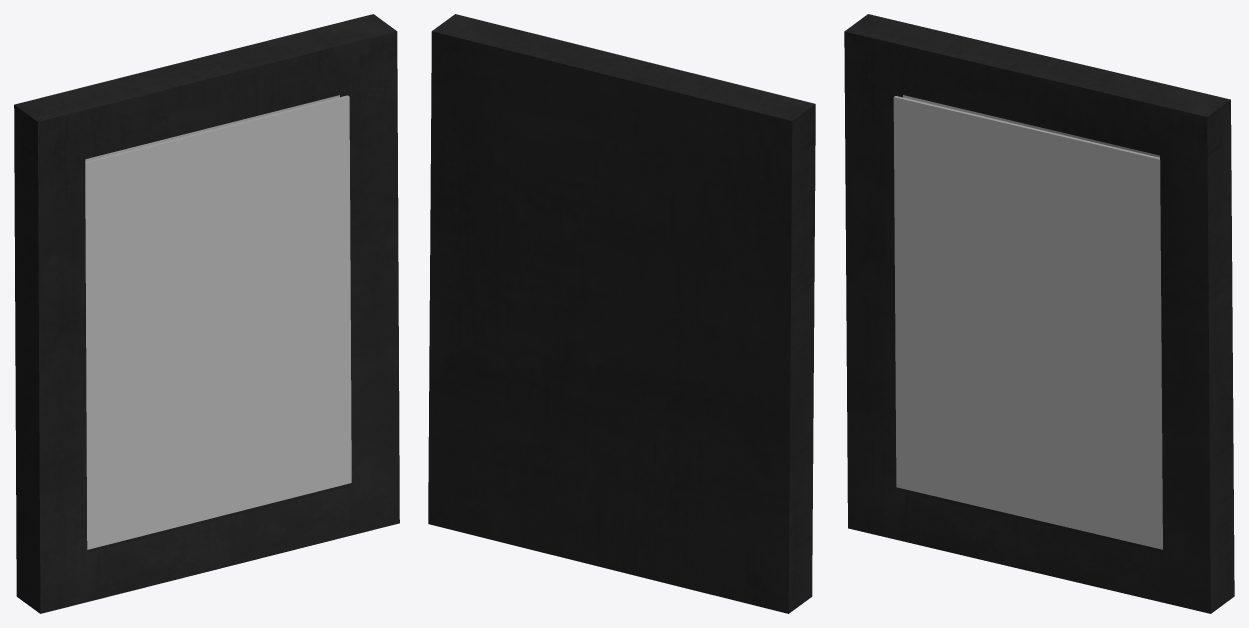
The model's file is Kaigamdl_1.fbx.
3 renders of one model, left to right at view 1: azimuth 30°, elevation 25°; view 2: azimuth 150°, elevation 25°; view 3: azimuth 330°, elevation 25°, orthographic.
Parts seen in each view (by area): view 1: Kaiga1; view 2: Kaiga1; view 3: Kaiga1.
Part boxes in pixels (x1=…): Kaiga1: x1=14, y1=14, x2=399, y2=613; Kaiga1: x1=428, y1=14, x2=815, y2=613; Kaiga1: x1=844, y1=14, x2=1234, y2=613.
Bounding box in the file's own units: 62.12 × 81.04 × 7.31.
